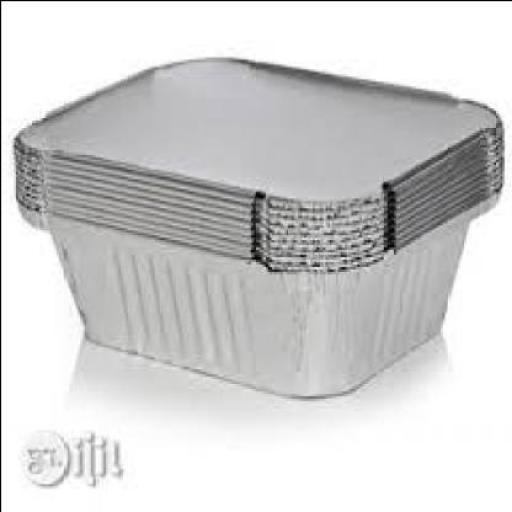metal: (16, 55, 506, 395)
